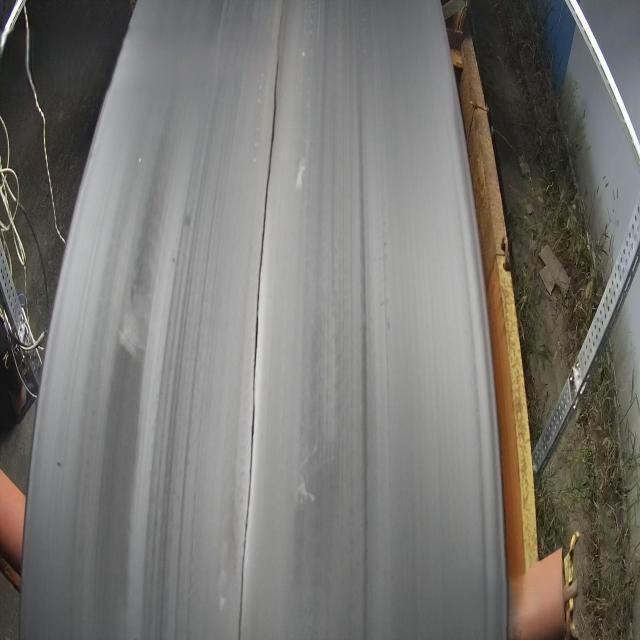Tear: (228, 0, 296, 640)
